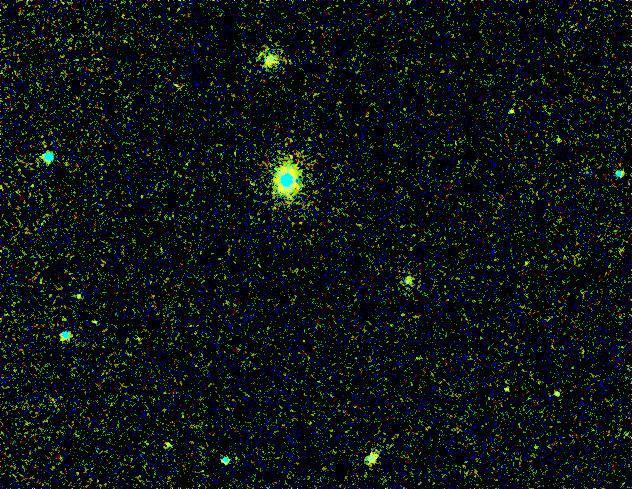star: (155, 422, 185, 452)
